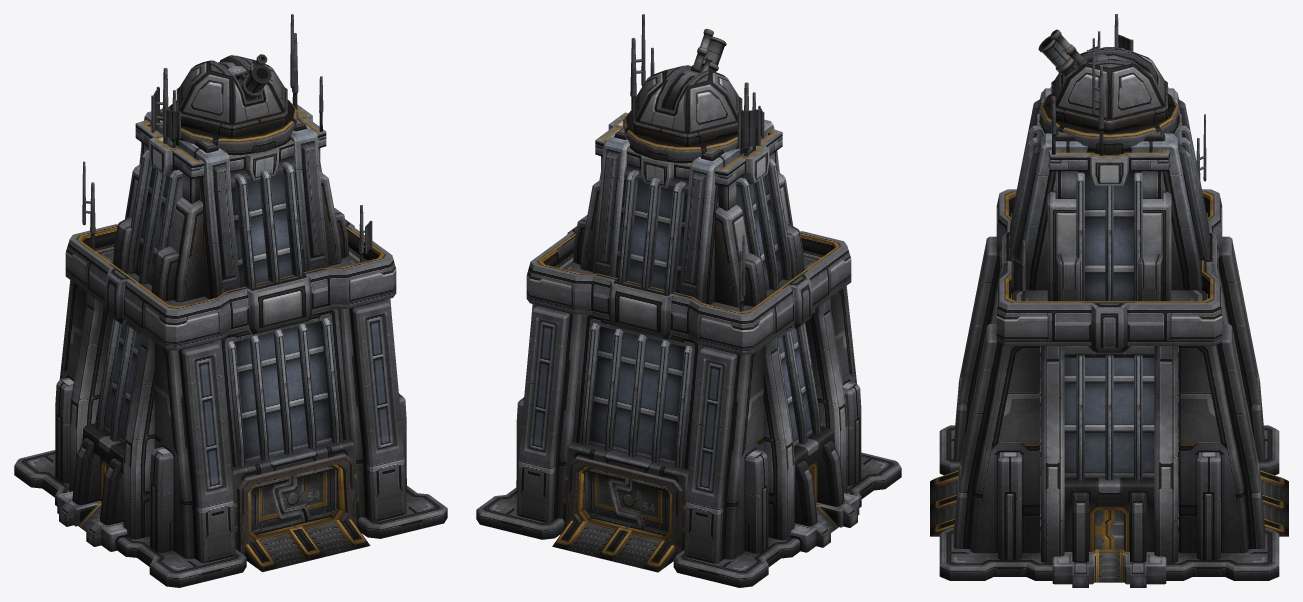
The model's file is datacore_00.fbx.
The picture shows the model from 3 angles, left to right: view 1: azimuth 30°, elevation 25°; view 2: azimuth 150°, elevation 25°; view 3: azimuth 270°, elevation 25°; orthographic projection. The views are drawn at different scales.
Visible parts, largest first — view 1: Geoset_0; view 2: Geoset_0; view 3: Geoset_0.
Boxes of the visible parts, x1,y1,x2,y2 form: Geoset_0: (14, 14, 447, 587); Geoset_0: (476, 14, 901, 587); Geoset_0: (930, 14, 1288, 587).
Size of the model in its own units: 7.53 by 11.1 by 7.21.
1 material, 1 textured.
